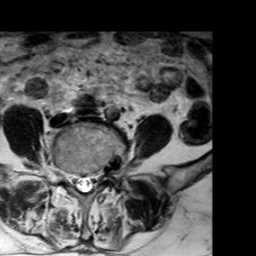CCS_stenosis: (80, 165, 88, 200)
LFS_normal: (96, 157, 104, 189)
LLS_normal: (88, 165, 96, 195)
RFS_normal: (62, 160, 72, 193)
RLS_normal: (72, 163, 80, 198)
